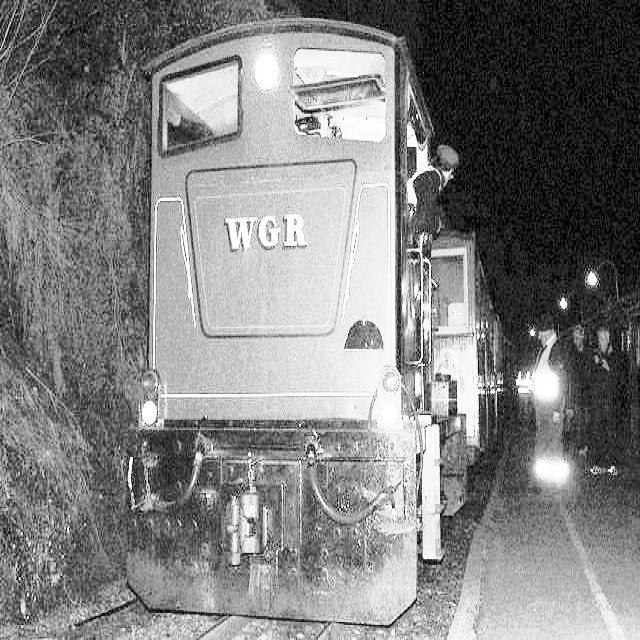Bus: (96, 0, 523, 640)
